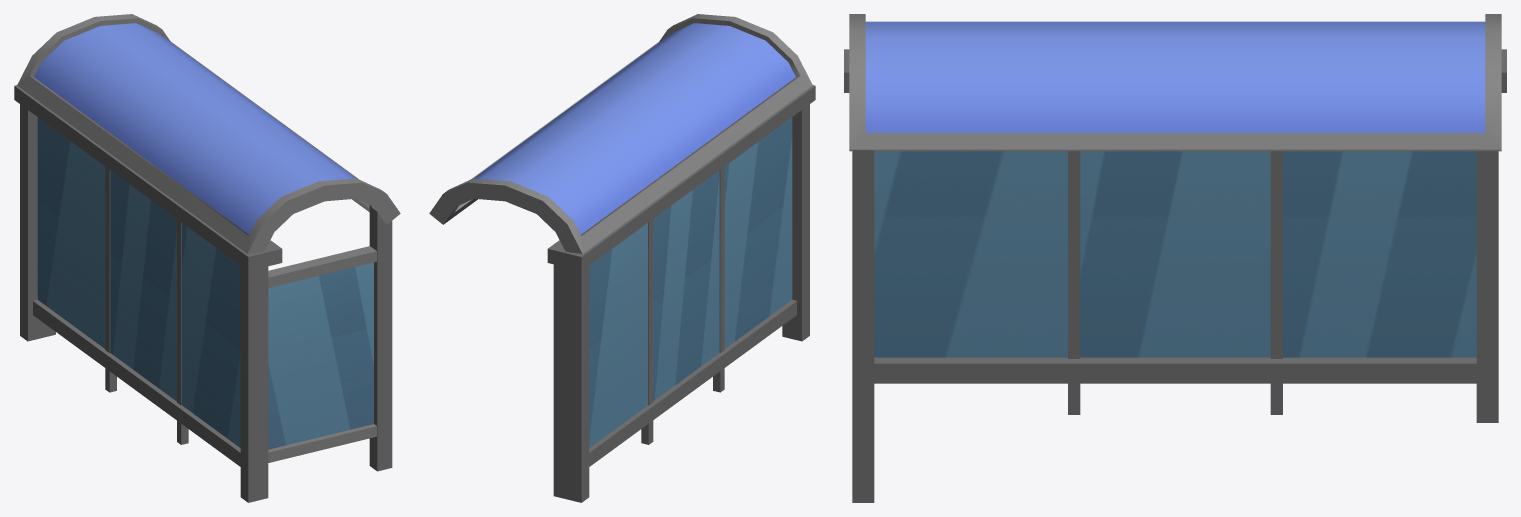
File: BusStop_A.fbx
3 renders of one model, left to right at view 1: azimuth 30°, elevation 25°; view 2: azimuth 150°, elevation 25°; view 3: azimuth 270°, elevation 25°, orthographic. The views are drawn at different scales.
Parts seen in each view (by area): view 1: BusStop_A; view 2: BusStop_A; view 3: BusStop_A.
Part boxes in pixels (left/top/right/bottom): BusStop_A: left=14, top=14, right=400, bottom=502; BusStop_A: left=429, top=14, right=815, bottom=502; BusStop_A: left=844, top=14, right=1506, bottom=502.
Size of the model in its own units: 153 by 284 by 403.
